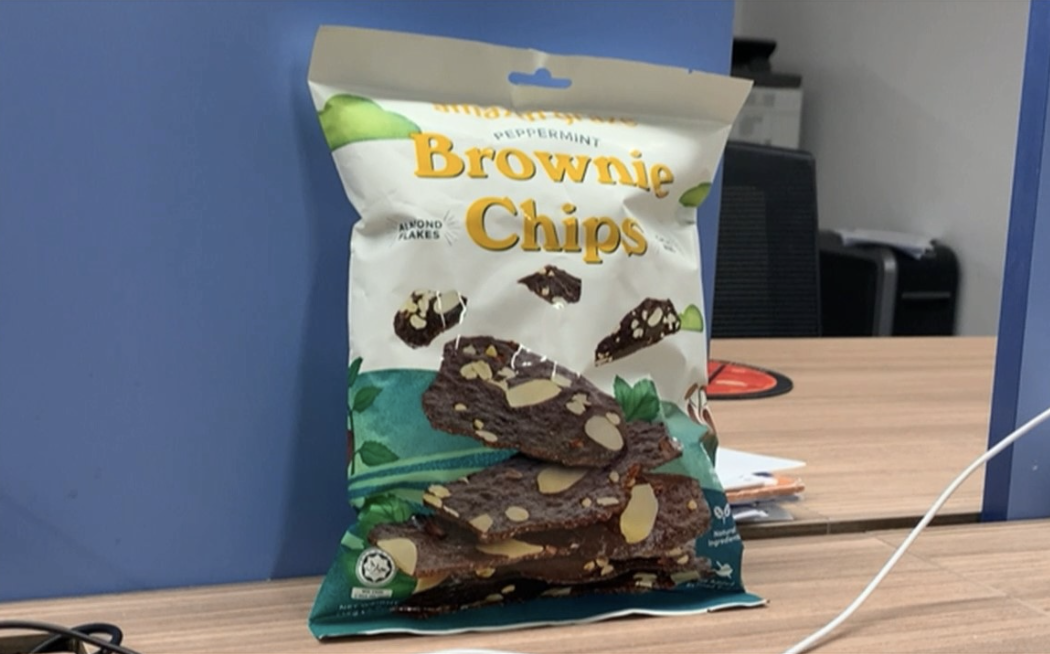crackers_100g-199g: (354, 99, 705, 602)
